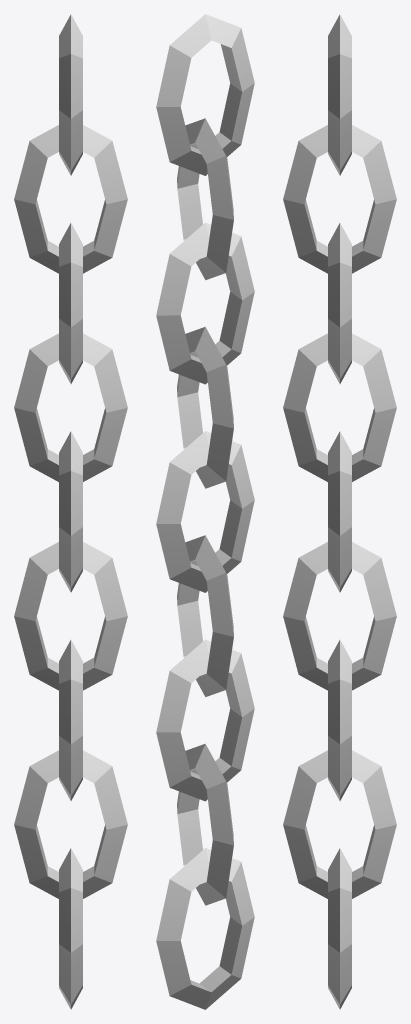
Rendered from Anchor_Chain_NineParts_B.fbx.
3 views of the same model, side by side, from view 1: azimuth 90°, elevation 25°; view 2: azimuth 210°, elevation 25°; view 3: azimuth 270°, elevation 25° (orthographic).
Visible parts, largest first — view 1: Anchor_Chain_NineParts_B; view 2: Anchor_Chain_NineParts_B; view 3: Anchor_Chain_NineParts_B.
Part boxes in pixels (<box>): Anchor_Chain_NineParts_B: <box>14,14,127,1009</box>; Anchor_Chain_NineParts_B: <box>156,14,254,1009</box>; Anchor_Chain_NineParts_B: <box>283,14,396,1009</box>.
Bounding box in the file's own units: 52.47 × 506 × 52.47.
